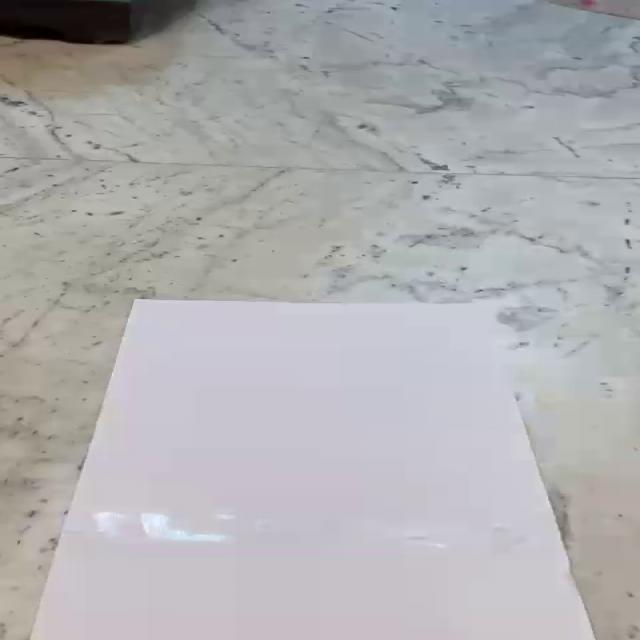road: (29, 300, 597, 640)
